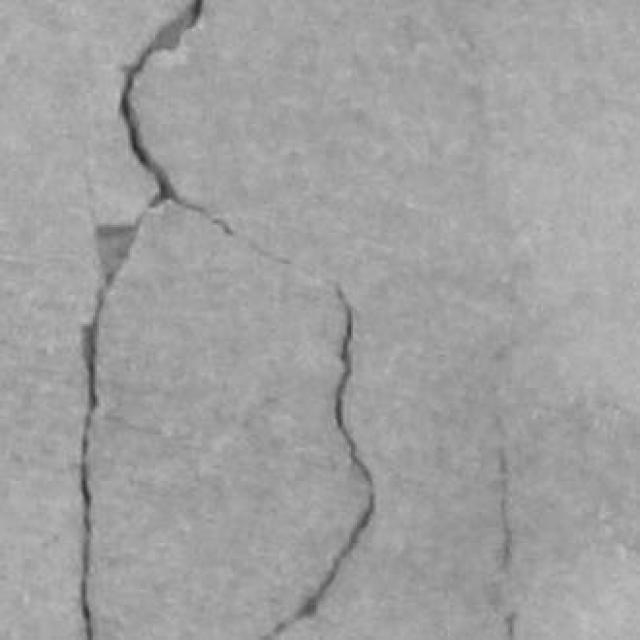crack: (262, 286, 376, 639), (82, 212, 145, 639), (80, 214, 143, 639), (80, 218, 141, 639), (121, 0, 203, 209), (499, 447, 513, 575), (499, 447, 513, 574), (505, 611, 517, 639)
